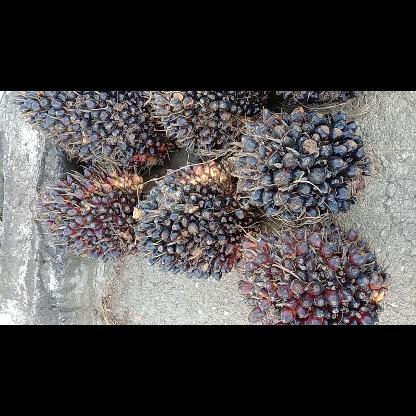TBS mentah: (229, 107, 373, 226), (127, 156, 261, 282), (235, 220, 394, 324), (10, 90, 184, 172), (35, 160, 151, 263), (139, 91, 272, 155)
